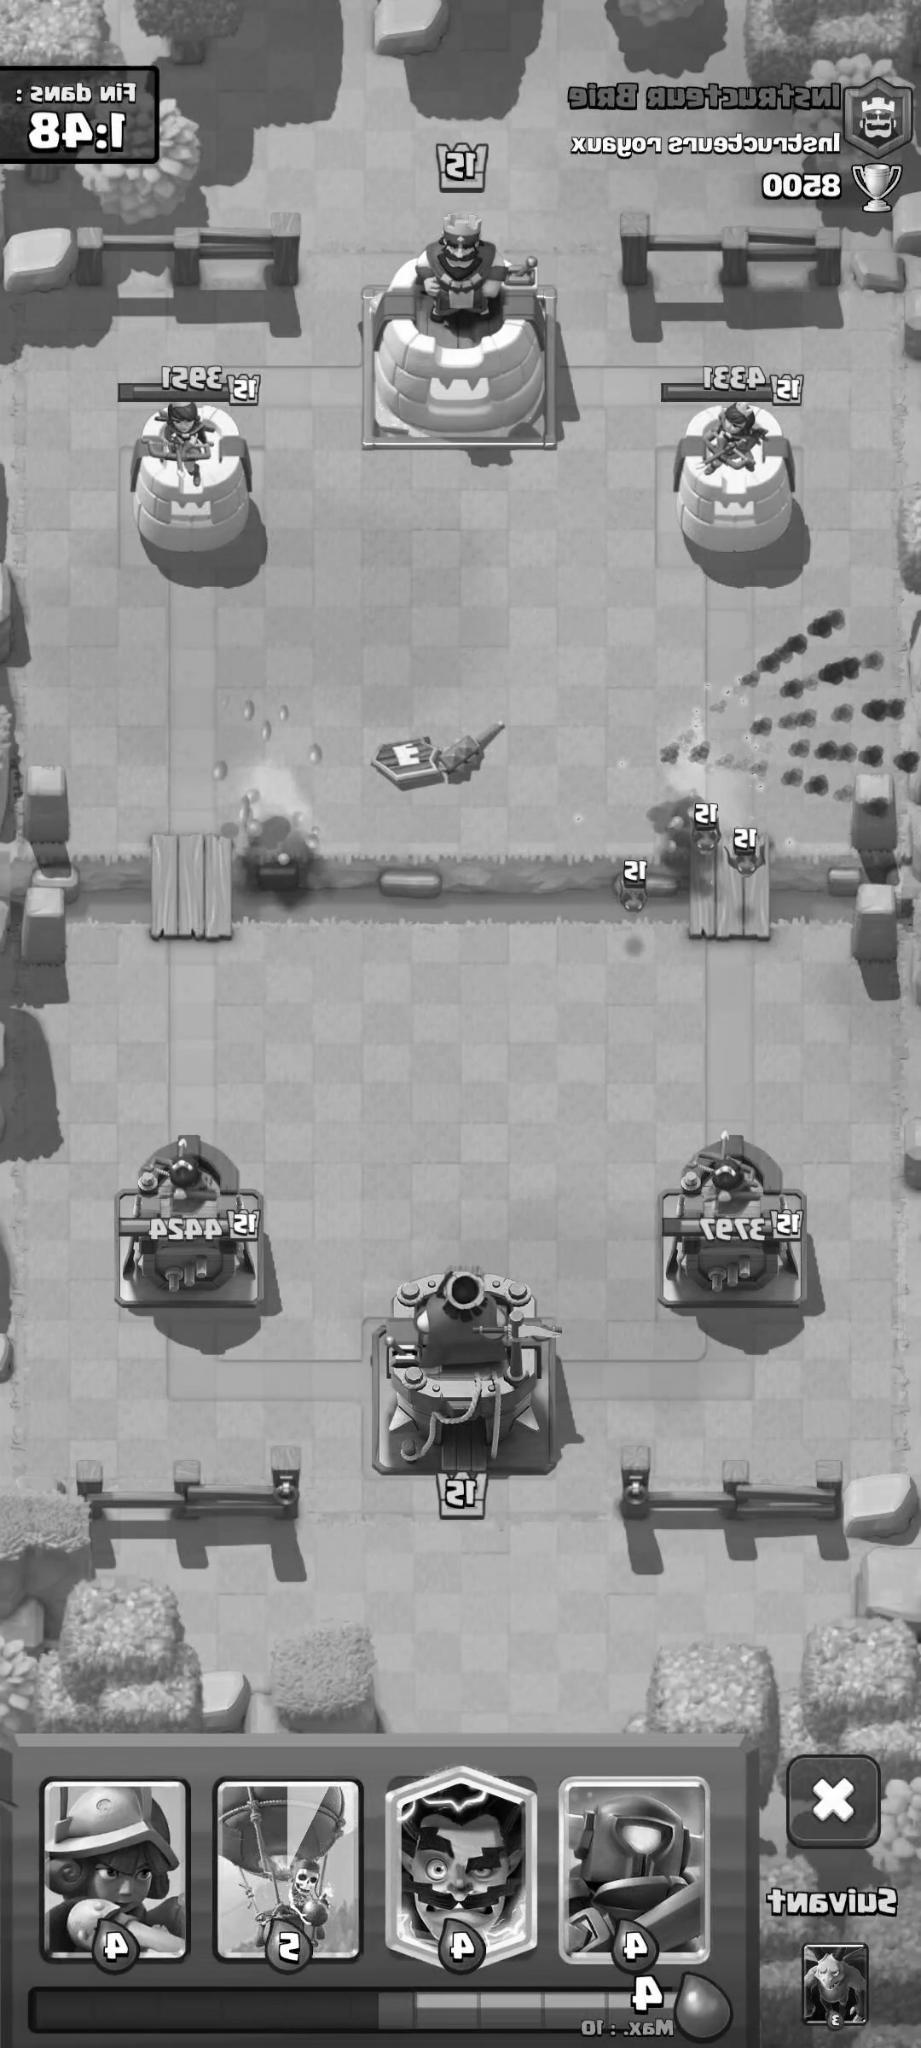bat: (665, 788, 730, 865), (711, 825, 776, 887), (602, 865, 648, 930)
